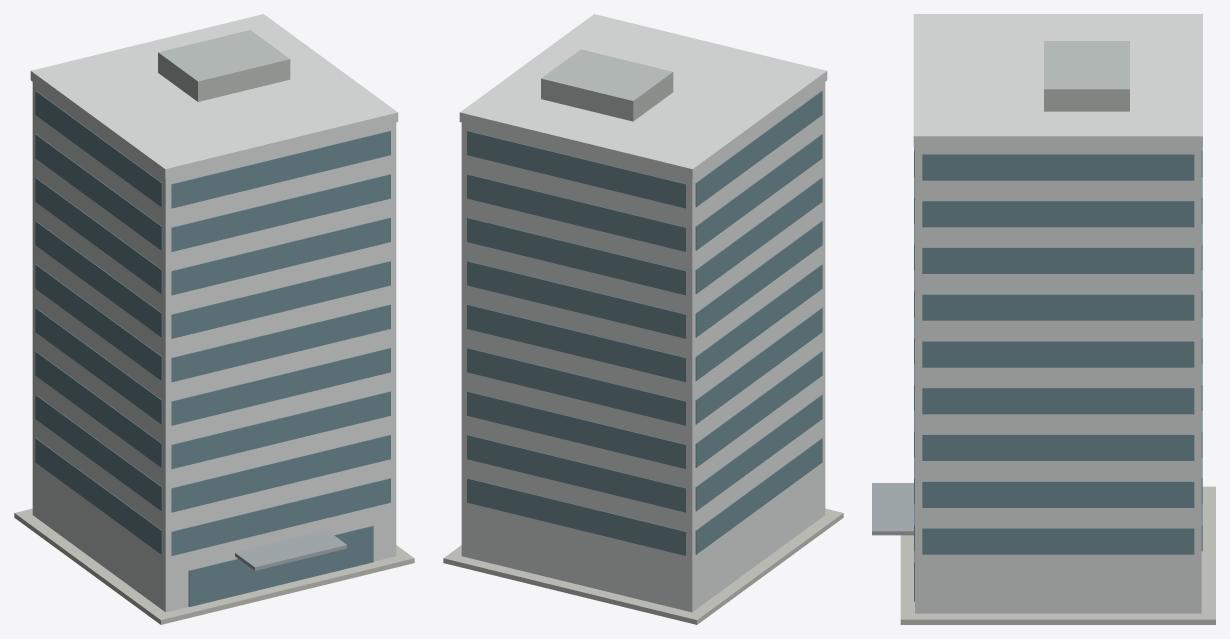
The model's file is office.glb.
3 renders of one model, left to right at view 1: azimuth 30°, elevation 25°; view 2: azimuth 150°, elevation 25°; view 3: azimuth 270°, elevation 25°, orthographic. The views are drawn at different scales.
Parts seen in each view (by area): view 1: building; view 2: building; view 3: building.
Part boxes in pixels (x1,y1,x2,y2): building: [14, 14, 414, 624]; building: [443, 14, 843, 624]; building: [872, 14, 1215, 624].
Bounding box in the file's own units: 22 × 38.9 × 24.
